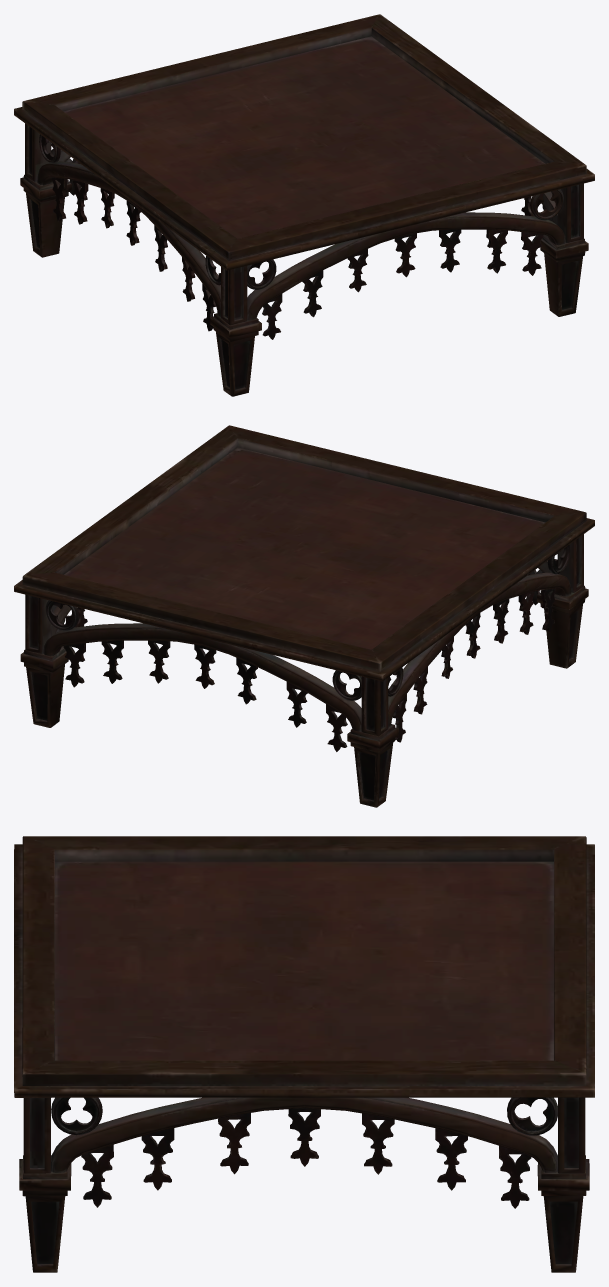
The model's file is gothic_coffee_table.glb.
3 renders of one model, top to bottom at view 1: azimuth 30°, elevation 25°; view 2: azimuth 150°, elevation 25°; view 3: azimuth 270°, elevation 25°, orthographic. The views are drawn at different scales.
Parts seen in each view (by area): view 1: gothic_coffee_table; view 2: gothic_coffee_table; view 3: gothic_coffee_table.
Boxes of the visible parts, bbox=[...] form: gothic_coffee_table: bbox=[14, 14, 594, 396]; gothic_coffee_table: bbox=[14, 425, 594, 807]; gothic_coffee_table: bbox=[14, 836, 594, 1272].
Size of the model in its own units: 1.44 by 0.558 by 1.44.
1 material, 1 textured.
